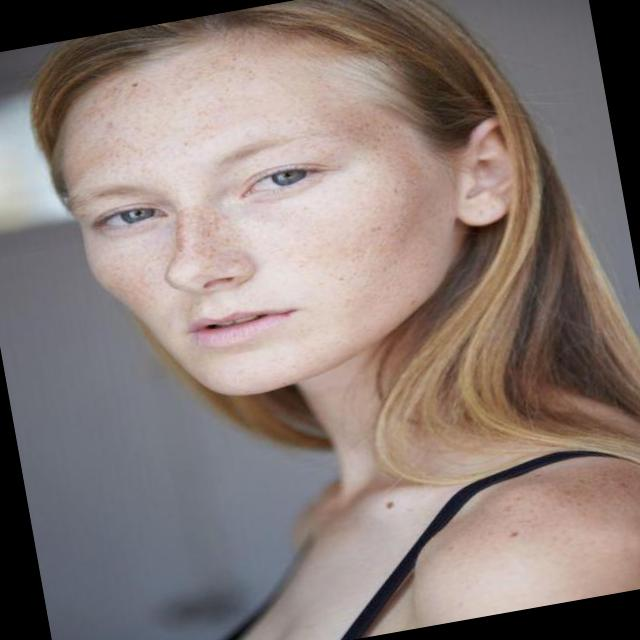freckle: (70, 40, 362, 176), (326, 167, 458, 313), (109, 206, 247, 297), (336, 102, 410, 177)
